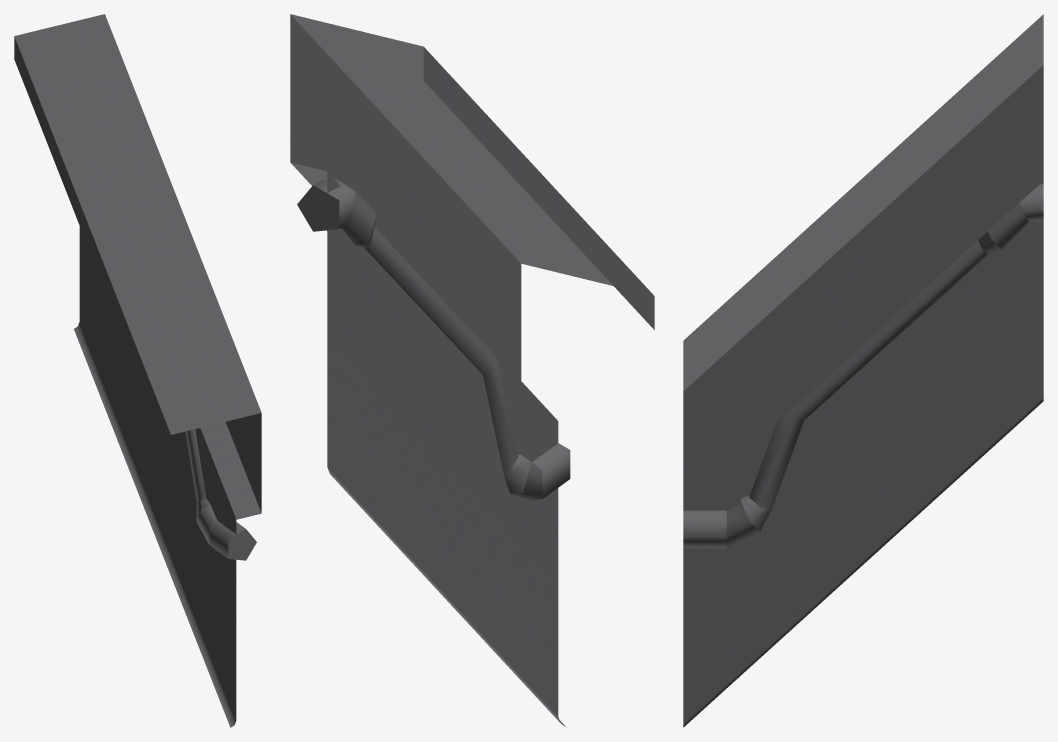
File: SM_walkway_trim_diagonal_100.fbx
3 views of the same model, side by side, from view 1: azimuth 30°, elevation 25°; view 2: azimuth 150°, elevation 25°; view 3: azimuth 270°, elevation 25° (orthographic). The views are drawn at different scales.
Visible parts, largest first — view 1: roomBlocks_smalltrim_b3; view 2: roomBlocks_smalltrim_b3; view 3: roomBlocks_smalltrim_b3.
Part boxes in pixels (box(x1,y1,x2,y2)): roomBlocks_smalltrim_b3: box(14, 14, 261, 727); roomBlocks_smalltrim_b3: box(290, 14, 654, 727); roomBlocks_smalltrim_b3: box(683, 14, 1043, 727).
Bounding box in the file's own units: 0.3338 × 2.08 × 1.
